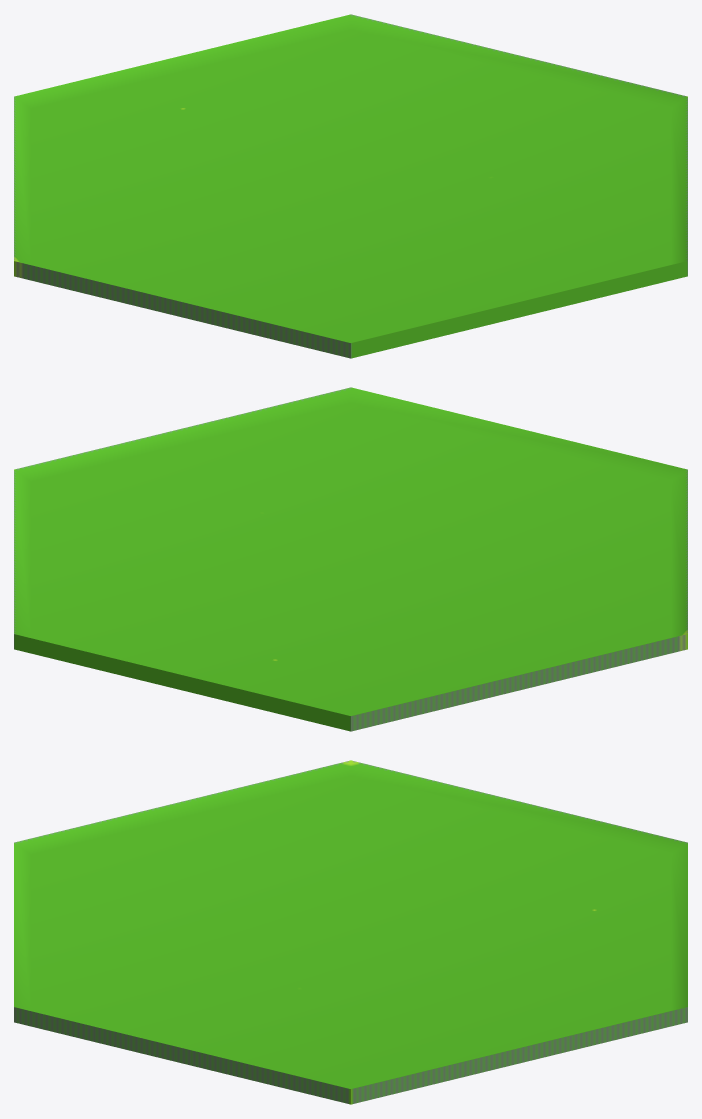
The model's file is lowlands_empty_hex.obj.
3 renders of one model, top to bottom at view 1: azimuth 30°, elevation 25°; view 2: azimuth 150°, elevation 25°; view 3: azimuth 270°, elevation 25°, orthographic.
Parts seen in each view (by area): view 1: pCylinder1; view 2: pCylinder1; view 3: pCylinder1.
Boxes of the visible parts, bbox=[...] form: pCylinder1: bbox=[14, 14, 687, 358]; pCylinder1: bbox=[14, 387, 687, 731]; pCylinder1: bbox=[14, 760, 687, 1104].
Bounding box in the file's own units: 6.92 × 0.1506 × 6.
